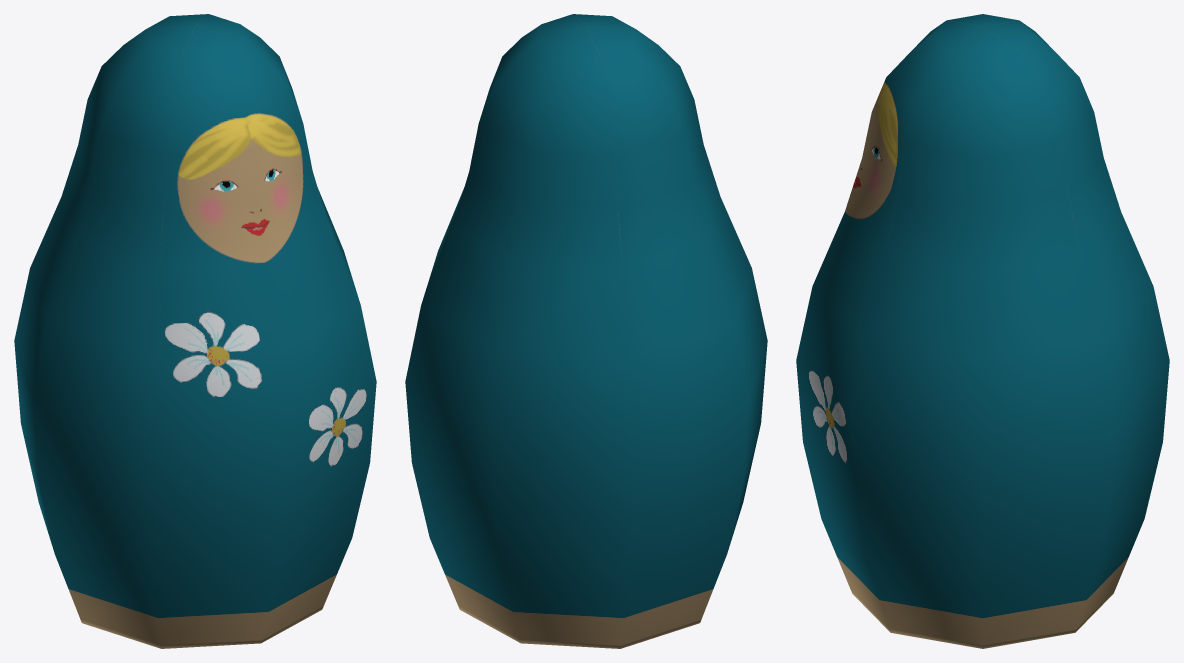
The model's file is poupee_C_01_optimisation_mesh.glb.
3 renders of one model, left to right at view 1: azimuth 30°, elevation 25°; view 2: azimuth 150°, elevation 25°; view 3: azimuth 270°, elevation 25°, orthographic.
Parts seen in each view (by area): view 1: Cylinder; view 2: Cylinder; view 3: Cylinder.
Boxes of the visible parts, bbox=[...] form: Cylinder: bbox=[14, 14, 376, 648]; Cylinder: bbox=[405, 14, 767, 648]; Cylinder: bbox=[796, 14, 1169, 648].
Size of the model in its own units: 0.0956 by 0.1601 by 0.0956.
1 material, 1 textured.
